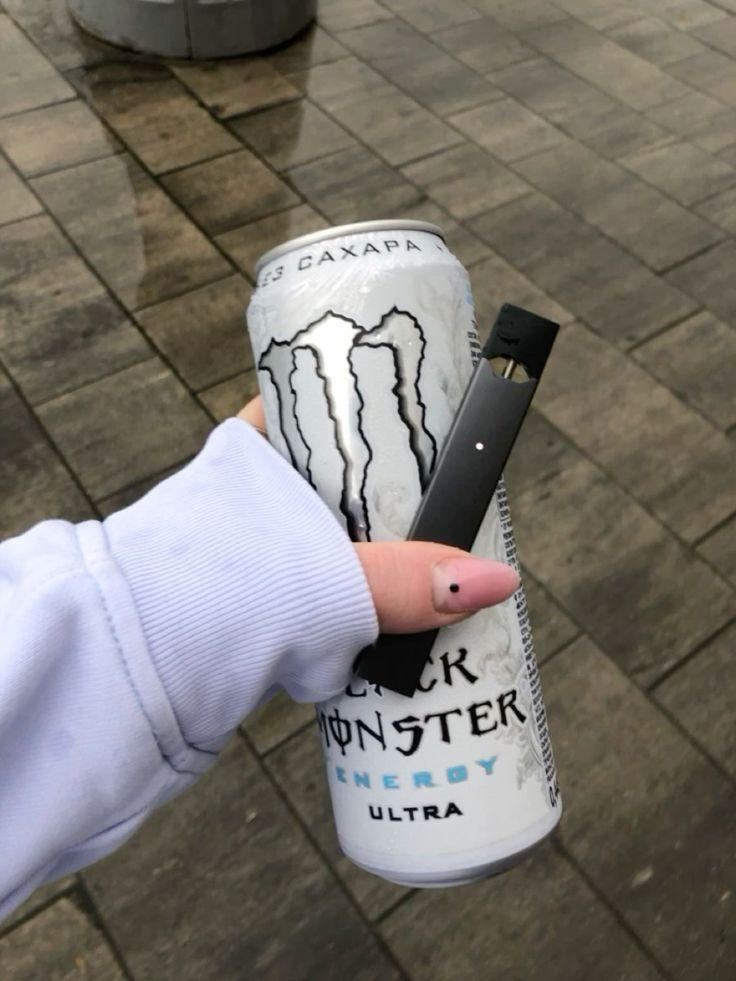Vape: (349, 302, 560, 698)
